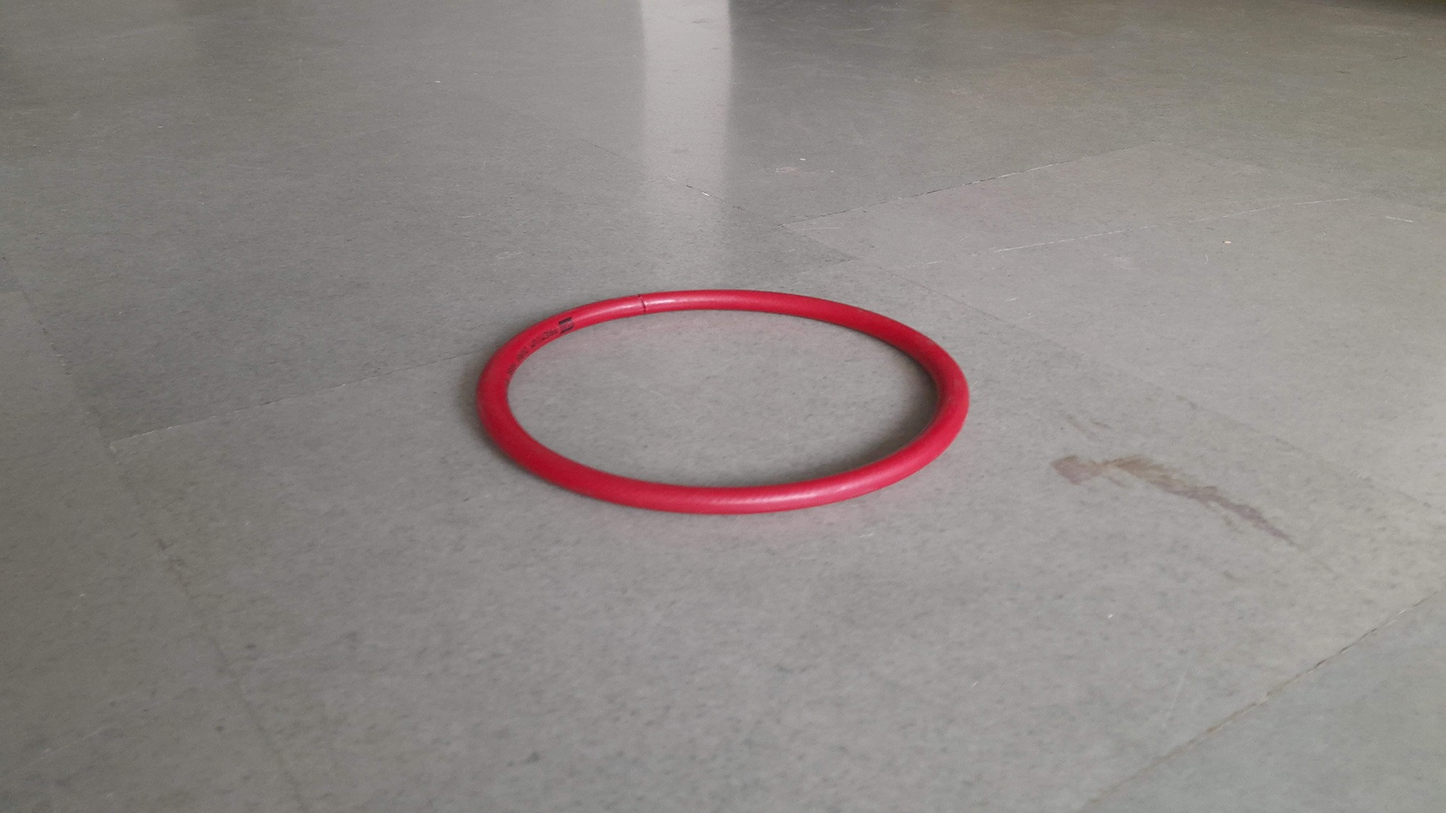Red ring: (474, 288, 969, 511)
